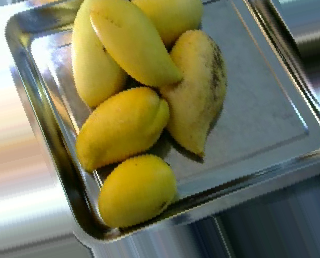Mango: (159, 24, 228, 162), (73, 85, 168, 178), (91, 3, 182, 90), (68, 3, 131, 106), (96, 154, 175, 229), (126, 1, 206, 42)
